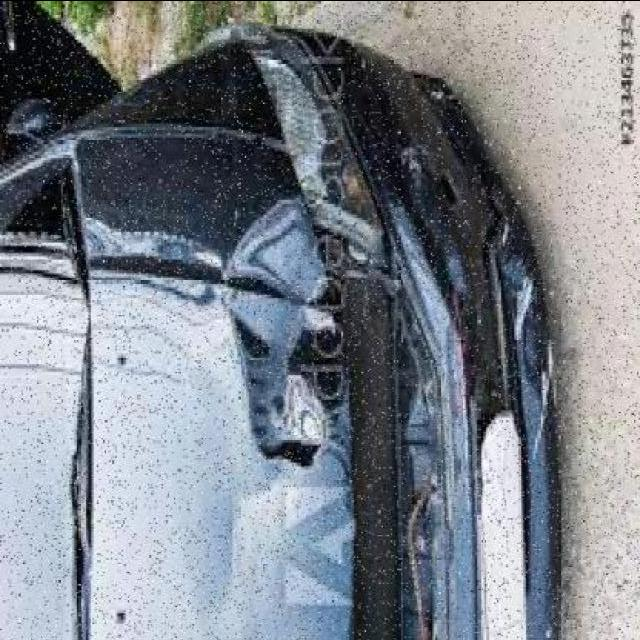bonnet-dent: (58, 108, 358, 640)
front-bumper-dent: (376, 116, 549, 640)
